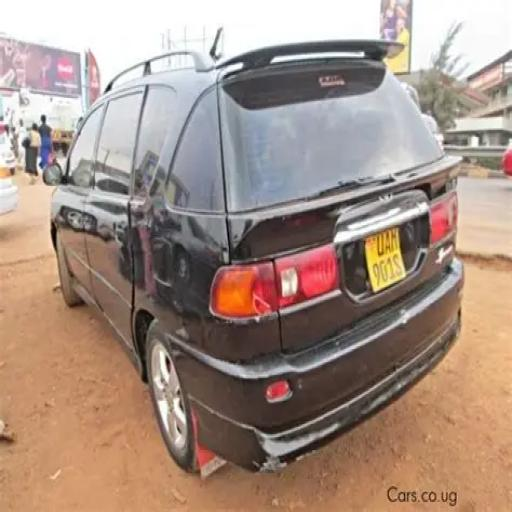number-plates: (363, 227, 408, 285)
